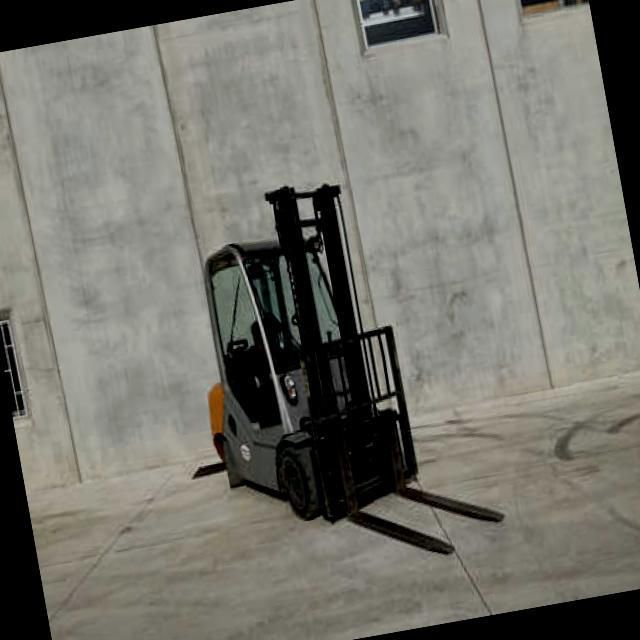forklift: (147, 162, 445, 552)
